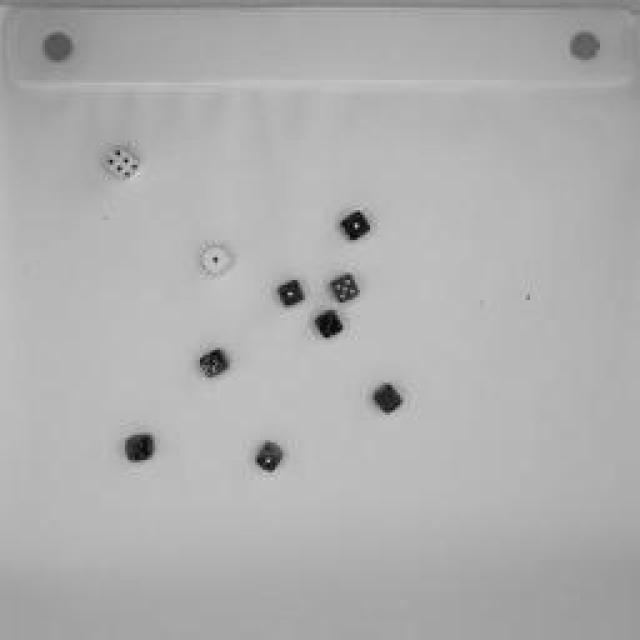dice_1: (332, 204, 380, 246), (368, 375, 412, 420), (268, 271, 312, 311), (199, 240, 239, 280), (246, 441, 286, 474)
dice_3: (314, 305, 348, 345)
dice_4: (103, 145, 145, 185)
dice_5: (196, 345, 234, 387), (325, 270, 363, 302), (122, 435, 160, 465)
